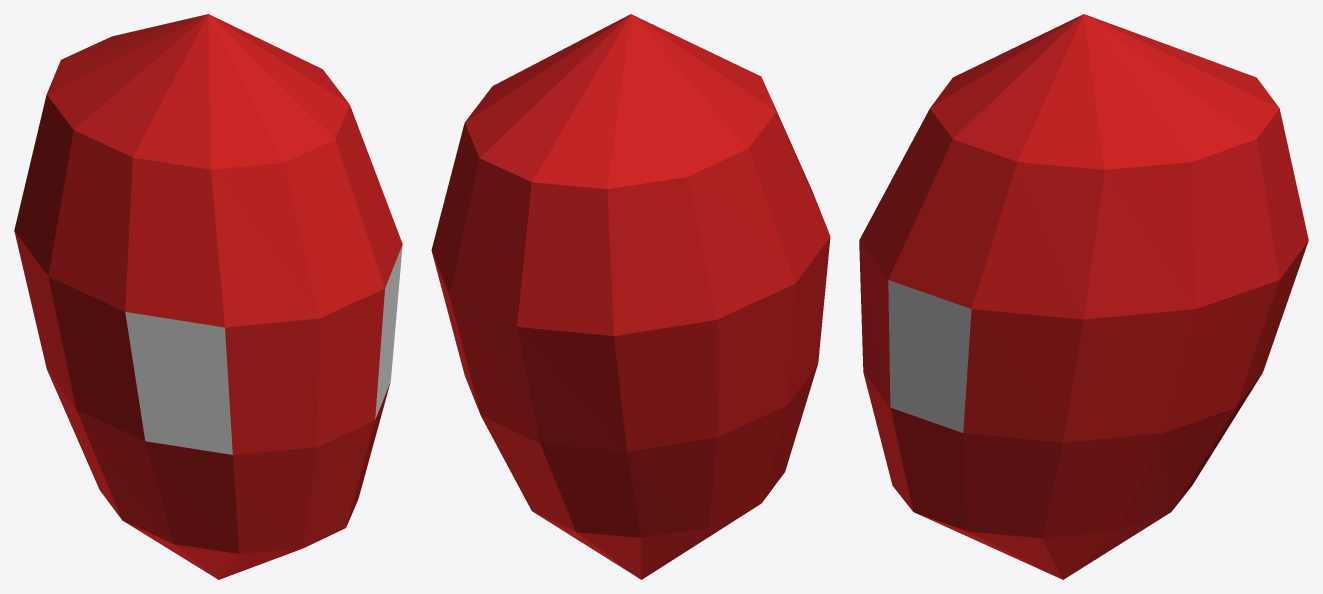
The model's file is spidey_osrs.obj.
3 renders of one model, left to right at view 1: azimuth 30°, elevation 25°; view 2: azimuth 150°, elevation 25°; view 3: azimuth 270°, elevation 25°, orthographic. The views are drawn at different scales.
Parts seen in each view (by area): view 1: SpideyHead_OSRS_96; view 2: SpideyHead_OSRS_96; view 3: SpideyHead_OSRS_96.
Part boxes in pixels (x1,y1,x2,y2): SpideyHead_OSRS_96: [14, 14, 402, 579]; SpideyHead_OSRS_96: [431, 14, 830, 579]; SpideyHead_OSRS_96: [859, 14, 1308, 579].
Size of the model in its own units: 1.8 by 3 by 2.16.
